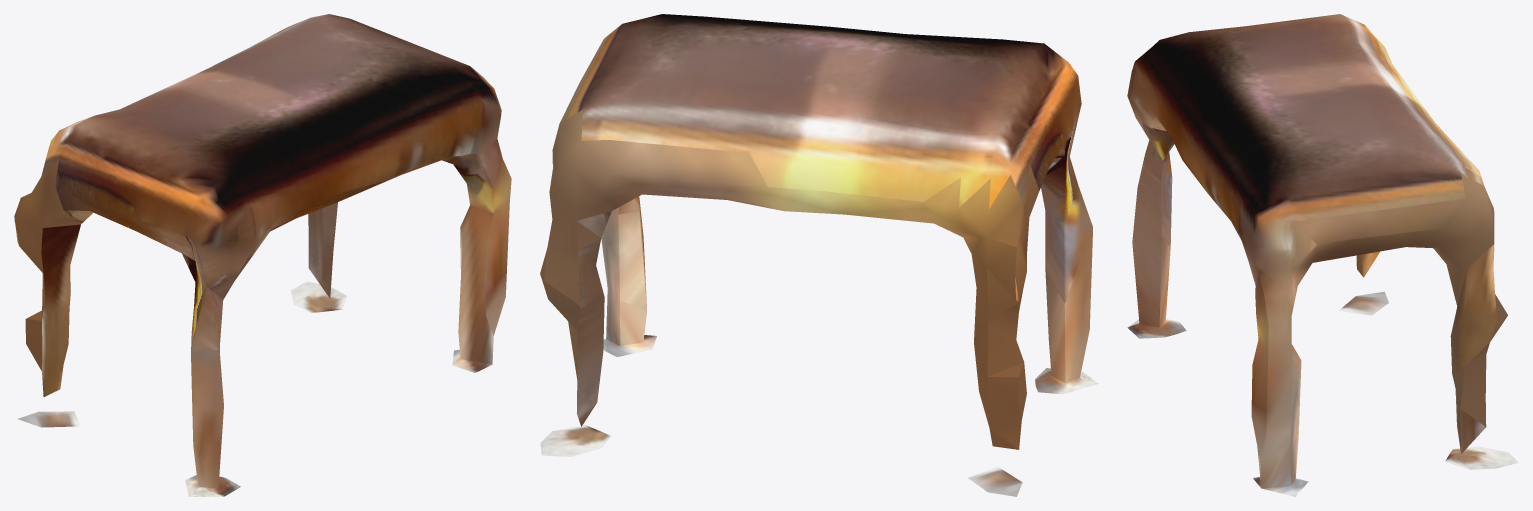
File: Foyer_pianobench_01.glb
The picture shows the model from 3 angles, left to right: view 1: azimuth 30°, elevation 25°; view 2: azimuth 150°, elevation 25°; view 3: azimuth 270°, elevation 25°; orthographic projection. The views are drawn at different scales.
Visible parts, largest first — view 1: Object_4; view 2: Object_4; view 3: Object_4.
Boxes of the visible parts, x1,y1,x2,y2 form: Object_4: (14, 14, 511, 496); Object_4: (540, 14, 1098, 496); Object_4: (1127, 14, 1518, 496).
Size of the model in its own units: 0.6876 by 0.4616 by 0.5405.
Materials: 1 (1 with a texture image).
